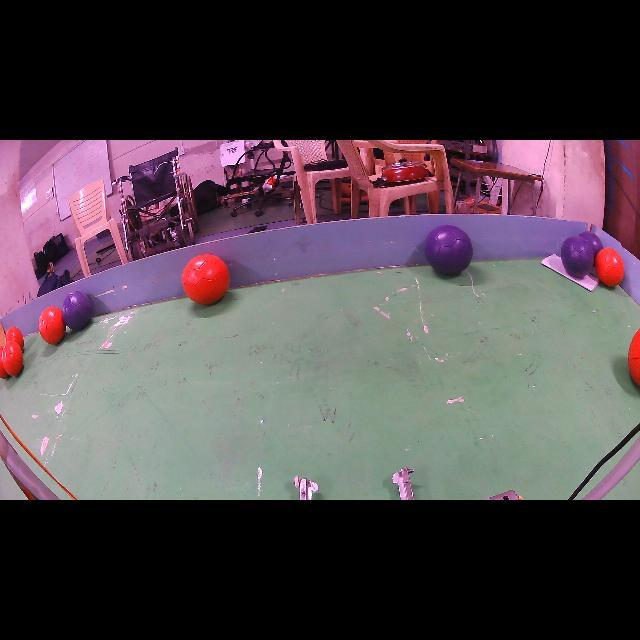P: (425, 225, 472, 275), (560, 236, 594, 279), (61, 291, 91, 330), (579, 231, 604, 259)
R: (181, 255, 230, 304), (595, 248, 625, 286), (39, 306, 66, 344), (1, 340, 24, 376), (628, 329, 640, 386), (5, 326, 24, 350), (0, 346, 9, 378)
